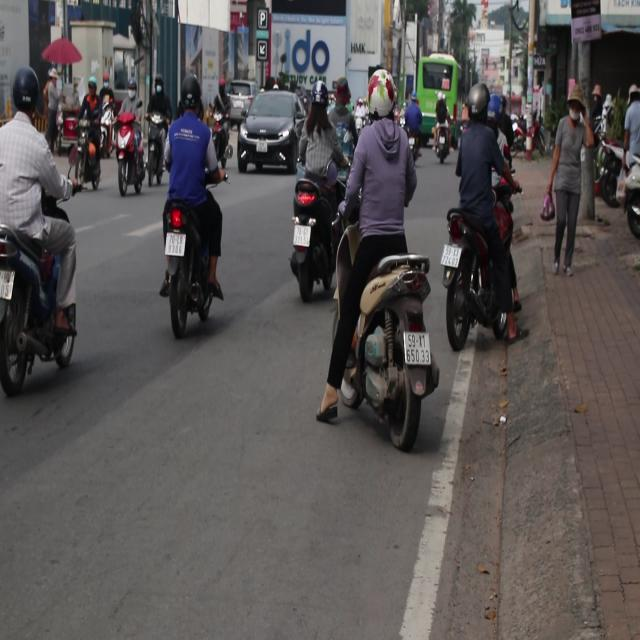bus: (419, 54, 464, 125)
car: (234, 90, 302, 175), (226, 80, 258, 116)
motorbike: (319, 239, 437, 449), (435, 196, 541, 366), (0, 210, 85, 388), (154, 197, 218, 381), (290, 179, 338, 301), (116, 120, 147, 203), (70, 111, 97, 189), (595, 142, 623, 206), (209, 117, 234, 182), (145, 111, 169, 176), (432, 115, 452, 164), (402, 115, 420, 162), (97, 96, 111, 142), (62, 115, 78, 149), (352, 97, 364, 141)
